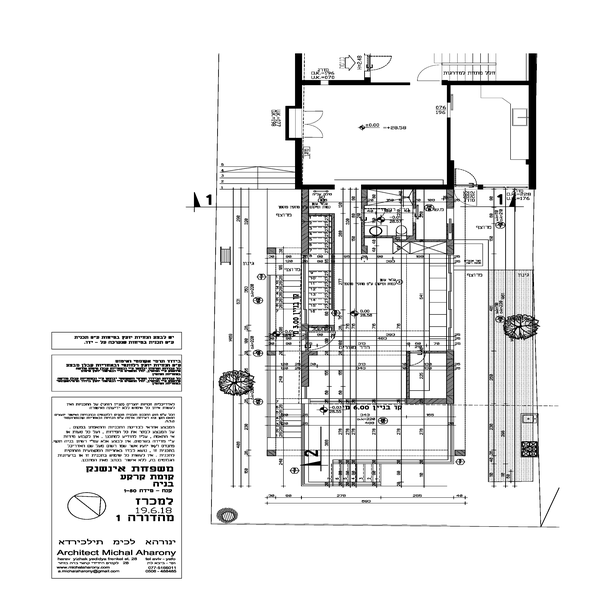door: (297, 104, 334, 137), (414, 59, 442, 95), (366, 51, 397, 72)
room: (288, 77, 456, 192), (445, 75, 547, 197)
wall: (527, 53, 539, 187), (363, 182, 450, 192), (299, 187, 311, 257), (444, 117, 457, 179), (301, 78, 367, 90), (409, 394, 457, 410), (443, 349, 456, 401), (441, 80, 529, 87), (295, 50, 304, 105), (295, 142, 304, 188), (371, 81, 410, 87)
